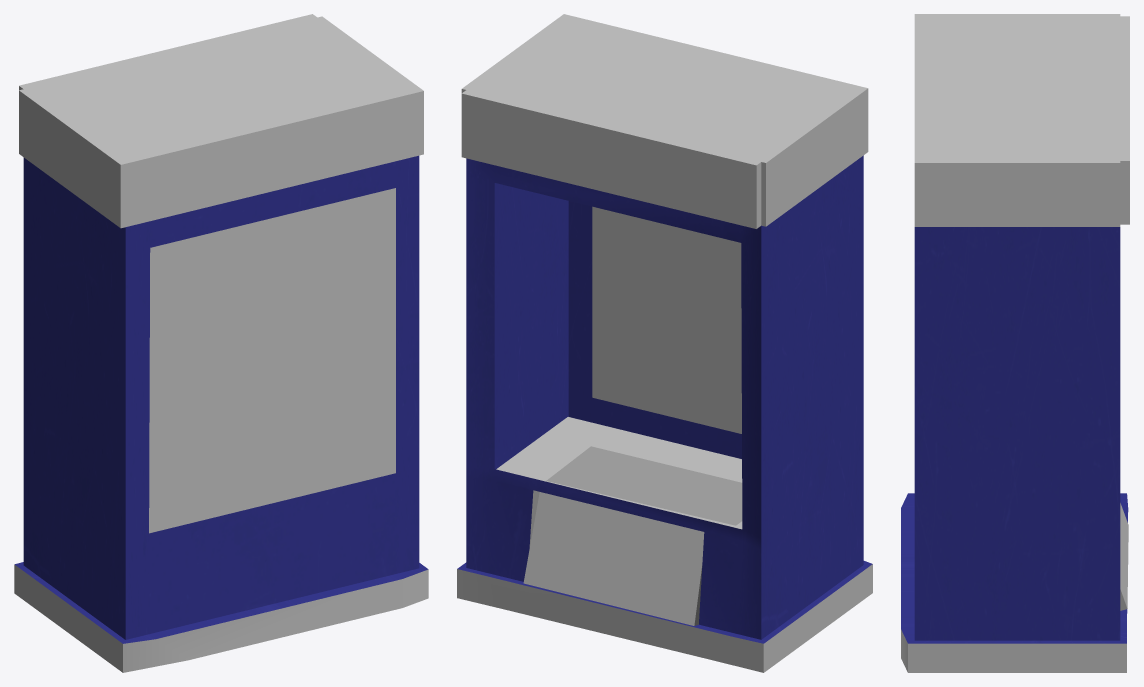
The model's file is maquina1.fbx.
3 views of the same model, side by side, from view 1: azimuth 30°, elevation 25°; view 2: azimuth 150°, elevation 25°; view 3: azimuth 270°, elevation 25° (orthographic).
Parts seen in each view (by area): view 1: pasted__pCube3; view 2: pasted__pCube3, pasted__pCube4; view 3: pasted__pCube3.
Boxes of the visible parts, x1=… form: pasted__pCube3: x1=14, y1=14, x2=428, y2=672; pasted__pCube3: x1=457, y1=14, x2=872, y2=672; pasted__pCube4: x1=496, y1=417, x2=742, y2=529; pasted__pCube3: x1=901, y1=14, x2=1129, y2=672.
Size of the model in its own units: 6.44 by 10.17 by 4.14.
